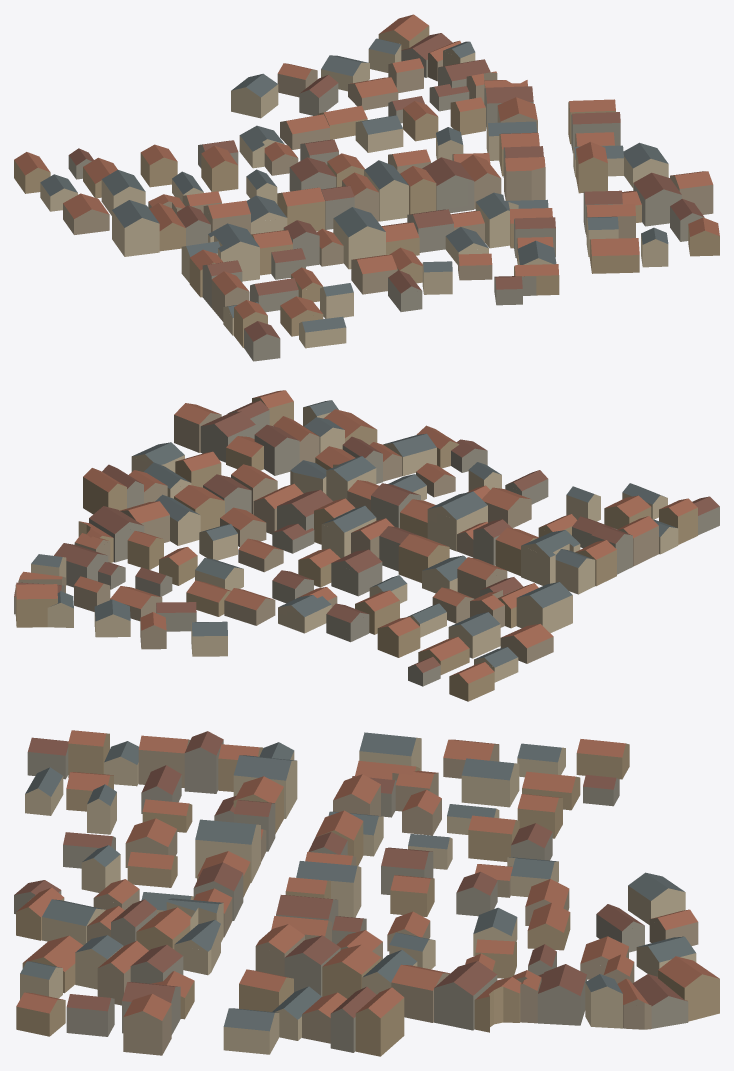
3 renders of one model, top to bottom at view 1: azimuth 30°, elevation 25°; view 2: azimuth 150°, elevation 25°; view 3: azimuth 270°, elevation 25°, orthographic. The views are drawn at different scales.
Parts seen in each view (by area): view 1: C_-2_3; view 2: C_-2_3; view 3: C_-2_3.
Boxes of the visible parts, x1,y1,x2,y2 form: C_-2_3: (14, 14, 719, 361); C_-2_3: (14, 390, 719, 701); C_-2_3: (14, 730, 719, 1056).
Size of the model in its own units: 190 by 14.5 by 190.
